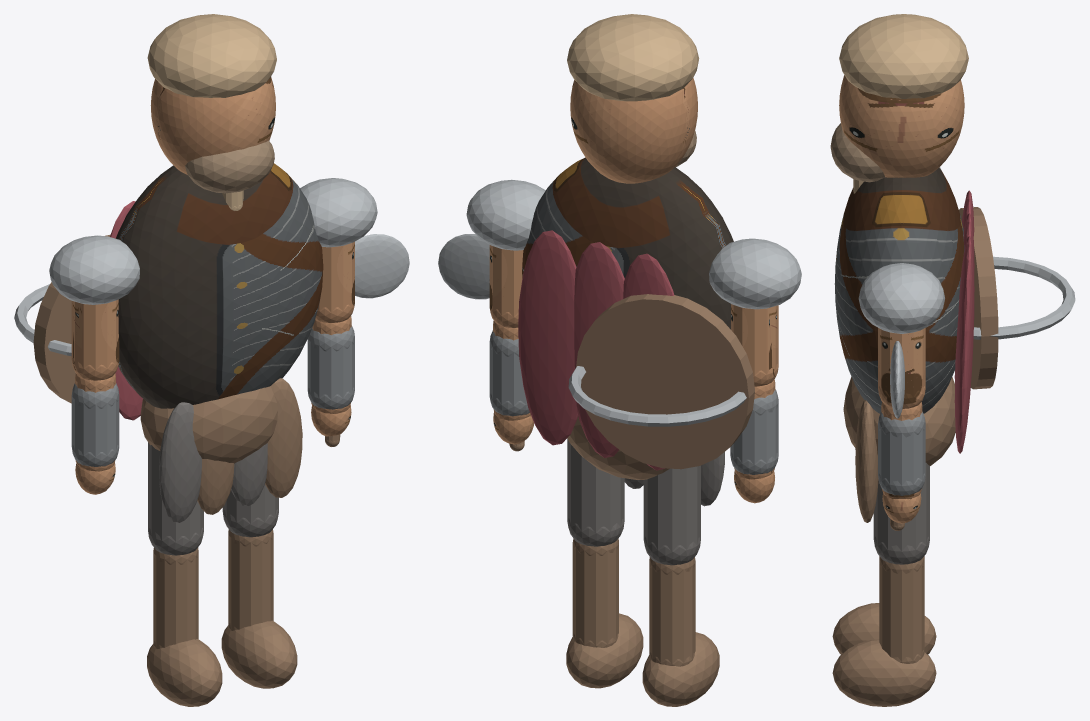
Rendered from Midgard_Hero_Viking_Skin_V3_Textured_YUP.glb.
3 renders of one model, left to right at view 1: azimuth 30°, elevation 25°; view 2: azimuth 150°, elevation 25°; view 3: azimuth 270°, elevation 25°, orthographic. The views are drawn at different scales.
Visible parts, largest first — view 1: Torso, HairCap, Head, Pelvis, Shoulder_L, Shin_L, Shin_R, Boot_R, Boot_L, Skirt_0, Shoulder_R, Vambrace_L (+17 smaller); view 2: Shield, Torso, CapePanel_2, Head, HairCap, Thigh_L, Shoulder_L, Shin_L, Shin_R, Thigh_R, CapePanel_1, Shoulder_R (+13 smaller); view 3: Torso, HairCap, Head, Boot_R, Shoulder_R, Shin_R, Shield, Vambrace_R, CapePanel_2, Thigh_R, Pelvis, UpperArm_R (+7 smaller).
Part boxes in pixels (<box>): Torso: <box>116,163,323,408</box>; HairCap: <box>147,14,276,97</box>; Head: <box>150,77,275,174</box>; Pelvis: <box>140,386,277,463</box>; Shoulder_L: <box>49,235,139,304</box>; Shin_L: <box>153,547,198,648</box>; Shin_R: <box>228,529,273,630</box>; Boot_R: <box>221,620,297,688</box>; Boot_L: <box>147,639,222,706</box>; Skirt_0: <box>159,402,201,522</box>; Shoulder_R: <box>300,178,377,247</box>; Vambrace_L: <box>71,383,119,466</box>; Shield: <box>576,294,754,469</box>; Torso: <box>522,157,733,329</box>; CapePanel_2: <box>518,230,577,445</box>; Head: <box>570,78,697,183</box>; HairCap: <box>567,14,699,101</box>; Thigh_L: <box>643,465,700,565</box>; Shoulder_L: <box>709,238,801,309</box>; Shin_L: <box>649,557,695,666</box>; Shin_R: <box>572,538,618,647</box>; Thigh_R: <box>567,438,624,546</box>; CapePanel_1: <box>574,242,624,457</box>; Shoulder_R: <box>466,179,545,250</box>; Torso: <box>834,167,964,413</box>; HairCap: <box>839,14,968,98</box>; Head: <box>839,75,964,177</box>; Boot_R: <box>832,639,936,706</box>; Shoulder_R: <box>858,263,944,333</box>; Shin_R: <box>879,556,924,663</box>; Shield: <box>959,207,998,389</box>; Vambrace_R: <box>878,411,925,495</box>; CapePanel_2: <box>954,236,974,453</box>; Thigh_R: <box>873,462,929,564</box>; Pelvis: <box>843,377,955,465</box>; UpperArm_R: <box>878,328,925,409</box>.
Size of the model in its own units: 1.88 by 3.38 by 1.13.
Materials: 10 (2 with a texture image).
